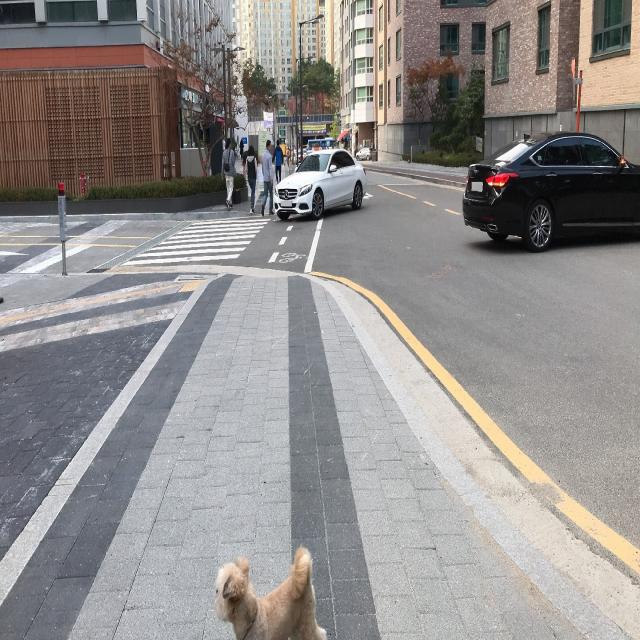횡단보도: (120, 217, 272, 268)
